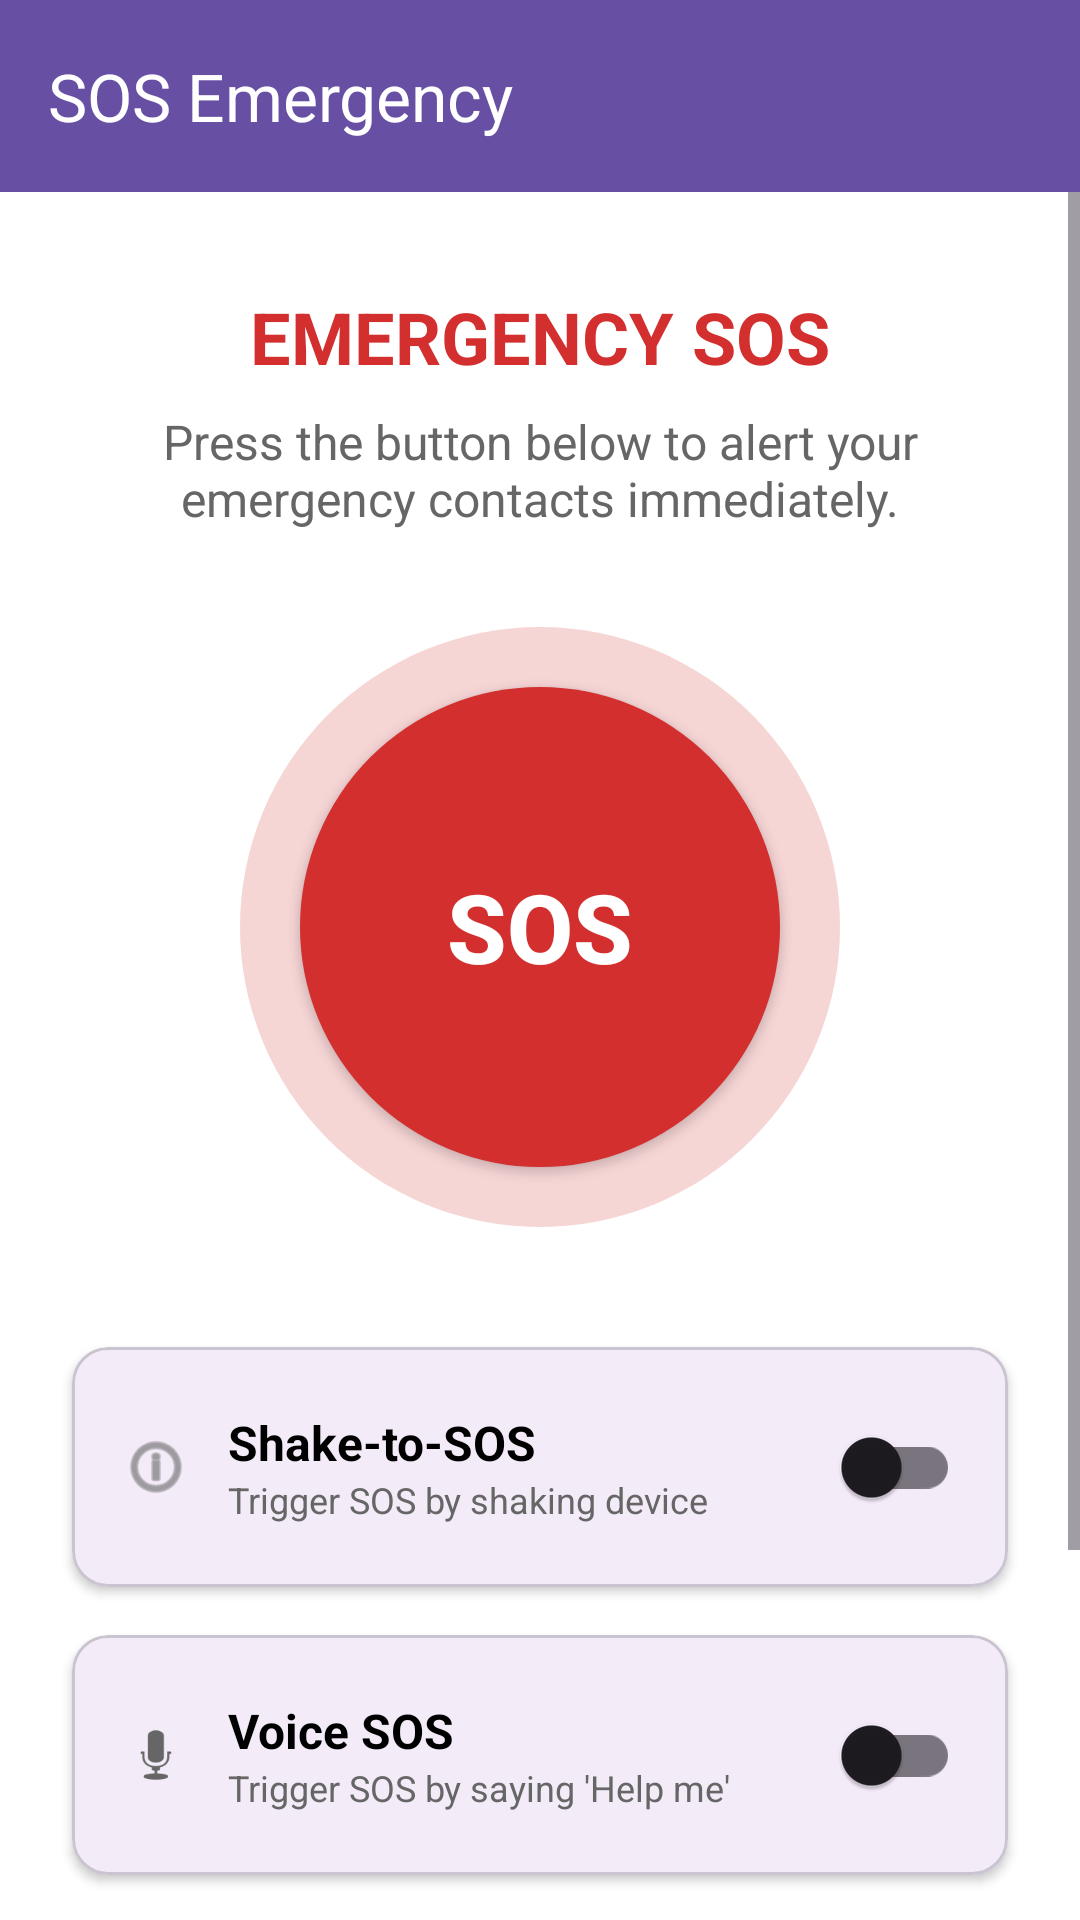

Screen size 1080x1920. Icon name, then its center in pixels as point (x, y):
info details: point (156, 1467)
speak now: point (156, 1755)
